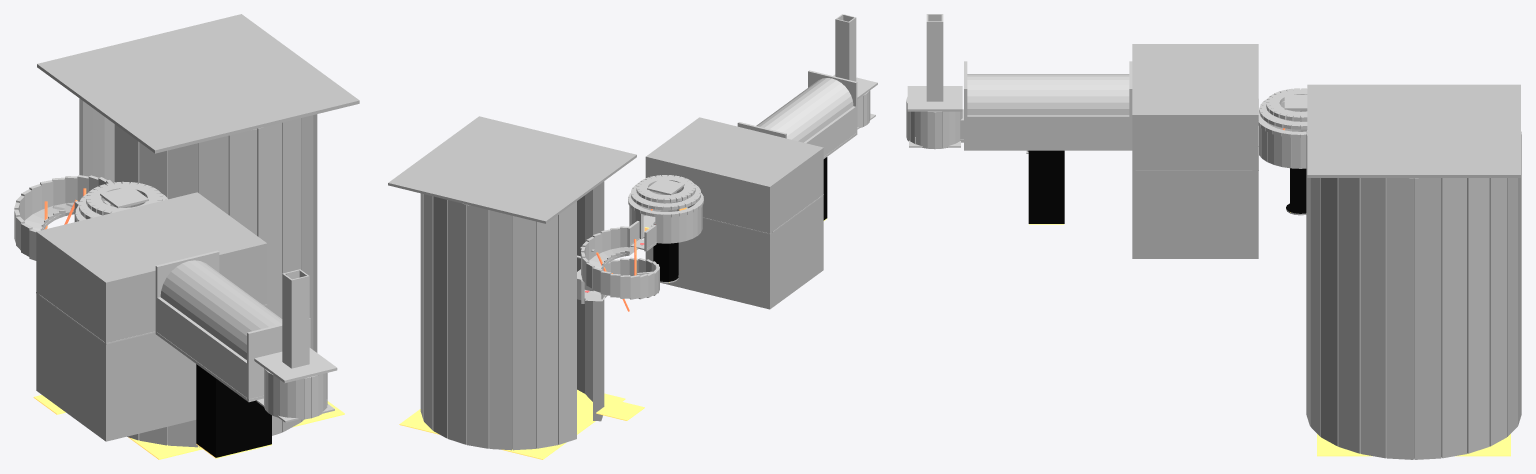
File: floor03.glb
3 views of the same model, side by side, from view 1: azimuth 30°, elevation 25°; view 2: azimuth 150°, elevation 25°; view 3: azimuth 270°, elevation 25° (orthographic). The views are drawn at different scales.
Visible parts, largest first — view 1: C6_HEART.SHARED.rock, C3_OSSUARY.SHARED.rock, C2_HALL.SHARED.stone_wall, C2_HALL.SHARED.stone_block, C2_HALL.PRESENT.fx_void, C1_LIFT.SHARED.stone_block, C5_DESCENT.SHARED.stone_wall, C1_LIFT.SHARED.stone_wall, C4_CISTERN.SHARED.stone_block, C6_HEART.SHARED.fx_ember, C5_DESCENT.SHARED.stone_block; view 2: C6_HEART.SHARED.rock, C3_OSSUARY.SHARED.rock, C5_DESCENT.SHARED.stone_wall, C2_HALL.SHARED.stone_block, C4_CISTERN.SHARED.stone_block, C2_HALL.SHARED.stone_wall, C4_CISTERN.SHARED.stone_wall, C1_LIFT.SHARED.stone_block, C6_HEART.SHARED.fx_ember, C4_CISTERN.PRESENT.fx_void, C5_DESCENT.SHARED.stone_block, C5_DESCENT.SHARED.fx_ember; view 3: C6_HEART.SHARED.rock, C3_OSSUARY.SHARED.rock, C2_HALL.SHARED.stone_block, C2_HALL.SHARED.stone_wall, C1_LIFT.SHARED.stone_block, C2_HALL.PRESENT.fx_void, C4_CISTERN.SHARED.stone_block, C1_LIFT.SHARED.stone_wall, C4_CISTERN.SHARED.stone_wall, C6_HEART.SHARED.fx_ember, C4_CISTERN.PRESENT.fx_void.
Part boxes in pixels (<box>): C6_HEART.SHARED.rock: <box>37,14,359,447</box>; C3_OSSUARY.SHARED.rock: <box>36,192,267,441</box>; C2_HALL.SHARED.stone_wall: <box>155,250,310,402</box>; C2_HALL.SHARED.stone_block: <box>156,260,282,400</box>; C2_HALL.PRESENT.fx_void: <box>196,364,271,457</box>; C1_LIFT.SHARED.stone_block: <box>254,269,337,382</box>; C5_DESCENT.SHARED.stone_wall: <box>14,175,112,260</box>; C1_LIFT.SHARED.stone_wall: <box>264,368,327,419</box>; C4_CISTERN.SHARED.stone_block: <box>75,181,167,221</box>; C6_HEART.SHARED.fx_ember: <box>128,401,344,459</box>; C5_DESCENT.SHARED.stone_block: <box>25,203,74,230</box>; C6_HEART.SHARED.rock: <box>388,116,636,450</box>; C3_OSSUARY.SHARED.rock: <box>645,117,823,309</box>; C5_DESCENT.SHARED.stone_wall: <box>581,221,659,303</box>; C2_HALL.SHARED.stone_block: <box>756,78,856,157</box>; C4_CISTERN.SHARED.stone_block: <box>628,175,703,237</box>; C2_HALL.SHARED.stone_wall: <box>737,70,857,158</box>; C4_CISTERN.SHARED.stone_wall: <box>629,191,702,243</box>; C1_LIFT.SHARED.stone_block: <box>833,14,877,99</box>; C6_HEART.SHARED.fx_ember: <box>399,389,625,459</box>; C4_CISTERN.PRESENT.fx_void: <box>653,242,678,281</box>; C5_DESCENT.SHARED.stone_block: <box>585,238,656,301</box>; C5_DESCENT.SHARED.fx_ember: <box>596,400,644,420</box>; C6_HEART.SHARED.rock: <box>1306,84,1521,459</box>; C3_OSSUARY.SHARED.rock: <box>1132,44,1258,258</box>; C2_HALL.SHARED.stone_block: <box>964,74,1132,148</box>; C2_HALL.SHARED.stone_wall: <box>964,61,1132,150</box>; C1_LIFT.SHARED.stone_block: <box>907,14,963,140</box>; C2_HALL.PRESENT.fx_void: <box>1028,150,1064,223</box>; C4_CISTERN.SHARED.stone_block: <box>1258,88,1307,138</box>; C1_LIFT.SHARED.stone_wall: <box>906,97,963,149</box>; C4_CISTERN.SHARED.stone_wall: <box>1259,105,1307,168</box>; C6_HEART.SHARED.fx_ember: <box>1317,434,1510,456</box>; C4_CISTERN.PRESENT.fx_void: <box>1286,168,1306,213</box>.
Size of the model in its own units: 113 by 110 by 190.
